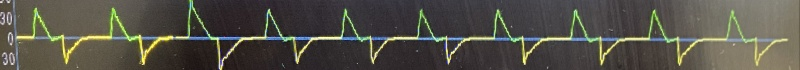normal_flow: (9, 0, 800, 70)
